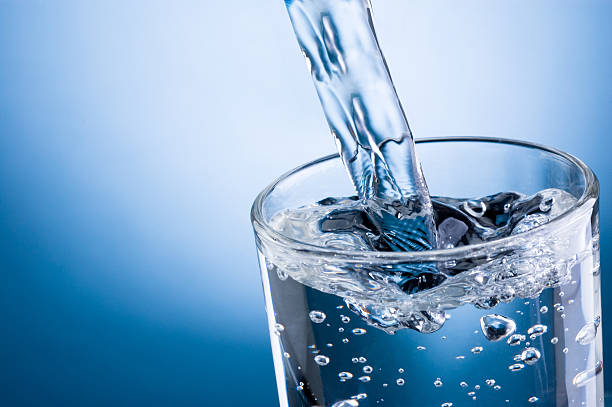glass of water: (241, 108, 599, 403)
